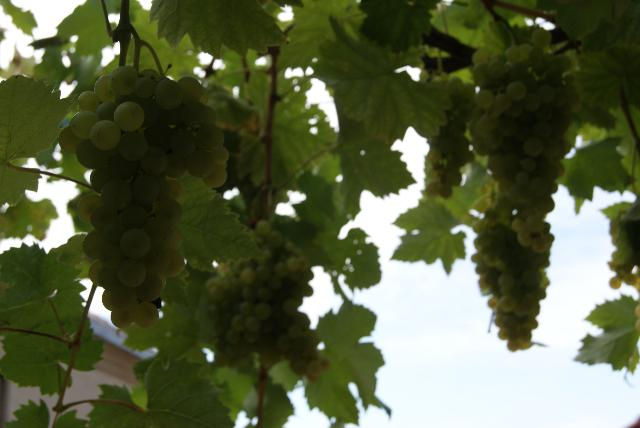grapes: (59, 65, 229, 328), (468, 27, 580, 351)
